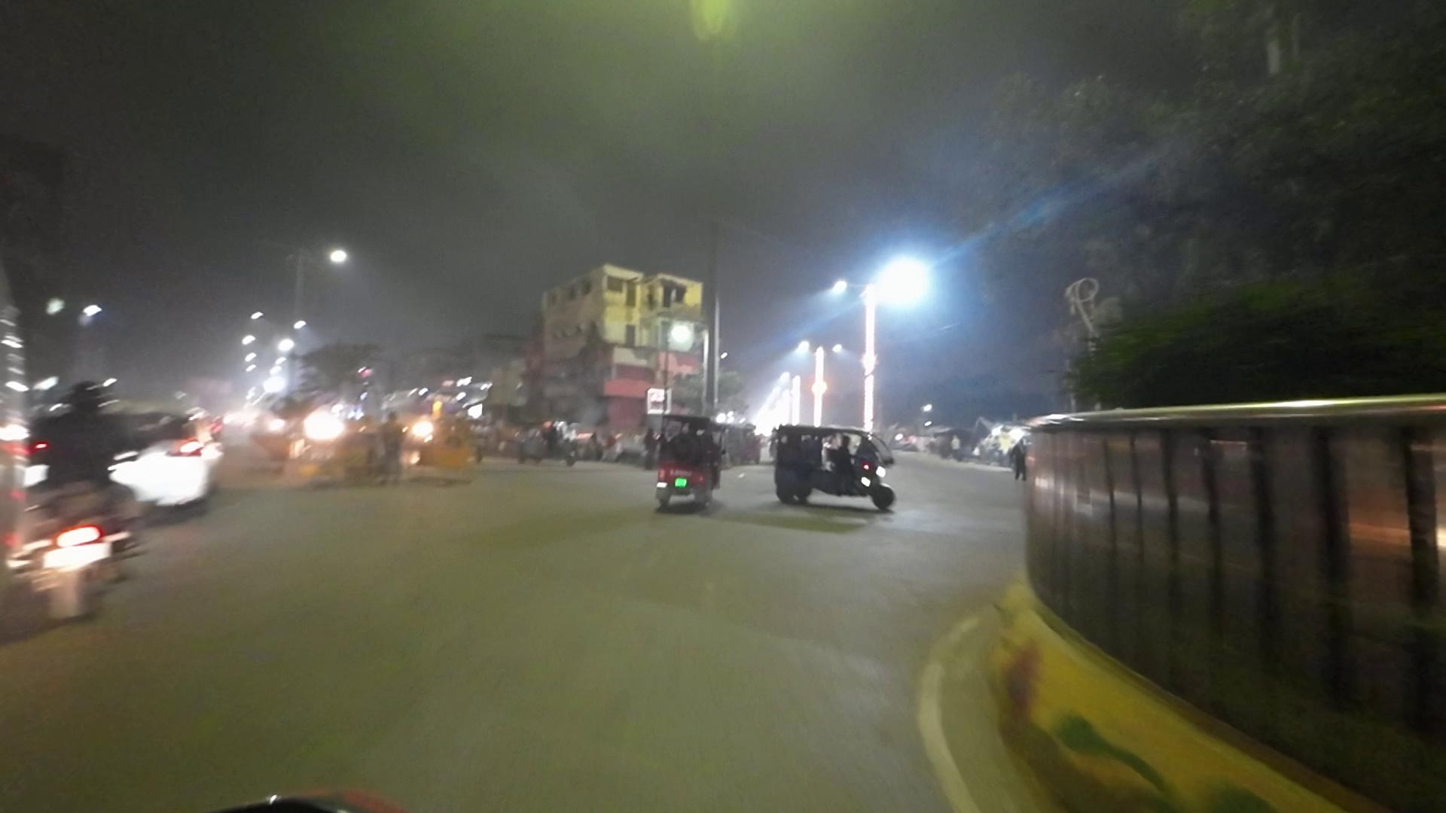streetlight: (246, 231, 296, 254)
